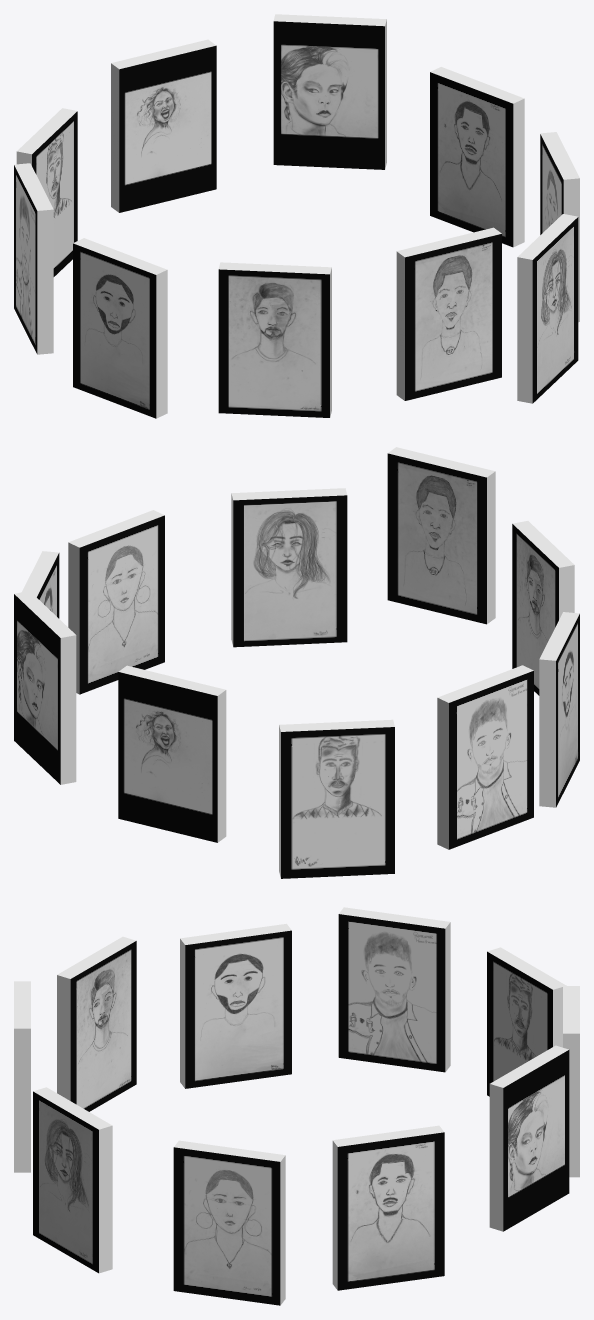
Rendered from 10_portrait.obj.
3 renders of one model, top to bottom at view 1: azimuth 30°, elevation 25°; view 2: azimuth 150°, elevation 25°; view 3: azimuth 270°, elevation 25°, orthographic. The views are drawn at different scales.
Visible parts, largest first — view 1: Cube_2, Cube_7, Cube_1, Cube_6, Cube_8, Cube_3, Cube_5, Cube_9, Cube_10, Cube_4; view 2: Cube_5, Cube_10, Cube_1, Cube_6, Cube_9, Cube_4, Cube_2, Cube_7, Cube_8, Cube_3; view 3: Cube_4, Cube_9, Cube_3, Cube_8, Cube_2, Cube_5, Cube_7, Cube_10, Cube_6, Cube_1.
Boxes of the visible parts, x1,y1,x2,y2 form: Cube_2: (273, 14, 386, 169); Cube_7: (218, 262, 331, 417); Cube_1: (111, 39, 216, 212); Cube_6: (396, 227, 501, 400); Cube_8: (73, 238, 167, 418); Cube_3: (430, 67, 524, 247); Cube_5: (517, 214, 578, 403); Cube_9: (14, 163, 53, 354); Cube_10: (16, 108, 77, 276); Cube_4: (540, 132, 579, 322); Cube_5: (231, 488, 347, 647); Cube_10: (279, 719, 394, 878); Cube_1: (118, 665, 226, 842); Cube_6: (387, 447, 495, 624); Cube_9: (437, 665, 533, 849); Cube_4: (68, 510, 164, 694); Cube_2: (14, 591, 76, 784); Cube_7: (512, 521, 574, 695); Cube_8: (539, 612, 579, 807); Cube_3: (22, 551, 59, 618); Cube_4: (173, 1140, 285, 1305); Cube_9: (338, 907, 450, 1072); Cube_3: (332, 1125, 444, 1290); Cube_8: (180, 923, 291, 1088); Cube_2: (489, 1045, 569, 1231); Cube_5: (33, 1087, 112, 1273); Cube_7: (57, 936, 136, 1111); Cube_10: (487, 947, 566, 1096); Cube_6: (14, 981, 30, 1172); Cube_1: (563, 986, 579, 1177).
Size of the model in its own units: 1505 by 562 by 1513.
Materials: 11 (10 with a texture image).
